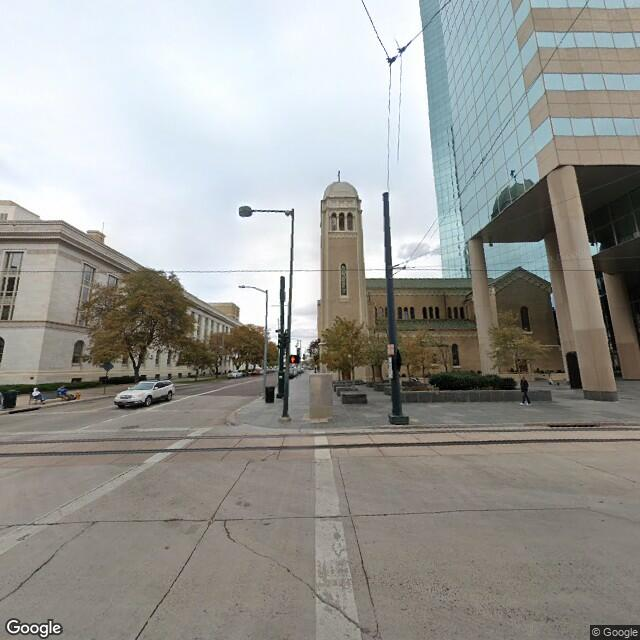lamp: (233, 197, 303, 428)
